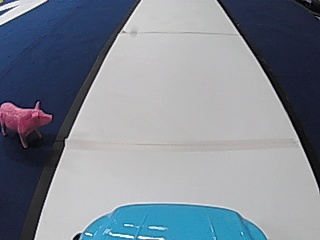pig: (0, 97, 54, 147)
